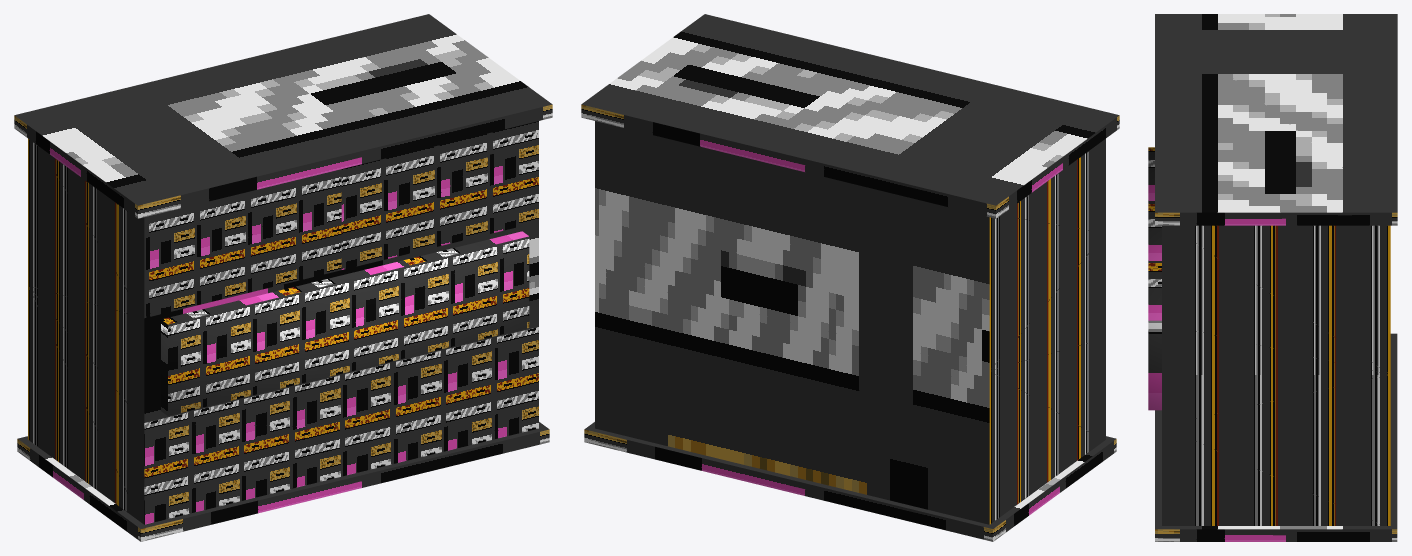
3 views of the same model, side by side, from view 1: azimuth 30°, elevation 25°; view 2: azimuth 150°, elevation 25°; view 3: azimuth 270°, elevation 25° (orthographic).
Visible parts, largest first — view 1: 3683kg_gl_cl1; view 2: 3683kg_gl_cl1; view 3: 3683kg_gl_cl1.
Boxes of the visible parts, bbox=[...] form: 3683kg_gl_cl1: bbox=[14, 14, 552, 541]; 3683kg_gl_cl1: bbox=[581, 14, 1119, 541]; 3683kg_gl_cl1: bbox=[1148, 14, 1397, 541].
Bounding box in the file's own units: 1.45 × 1.13 × 0.7703.
1 material, 1 textured.
